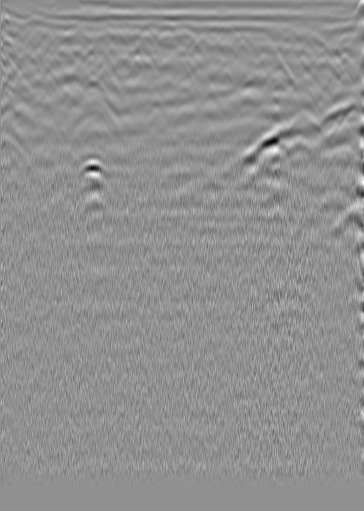가스: (73, 151, 111, 186)
상수: (334, 51, 354, 71)
오수: (22, 18, 42, 38)
우수: (176, 28, 196, 48)
